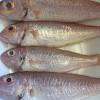Ikan Kerisi: (1, 70, 100, 99), (1, 17, 100, 46), (1, 44, 100, 71)
